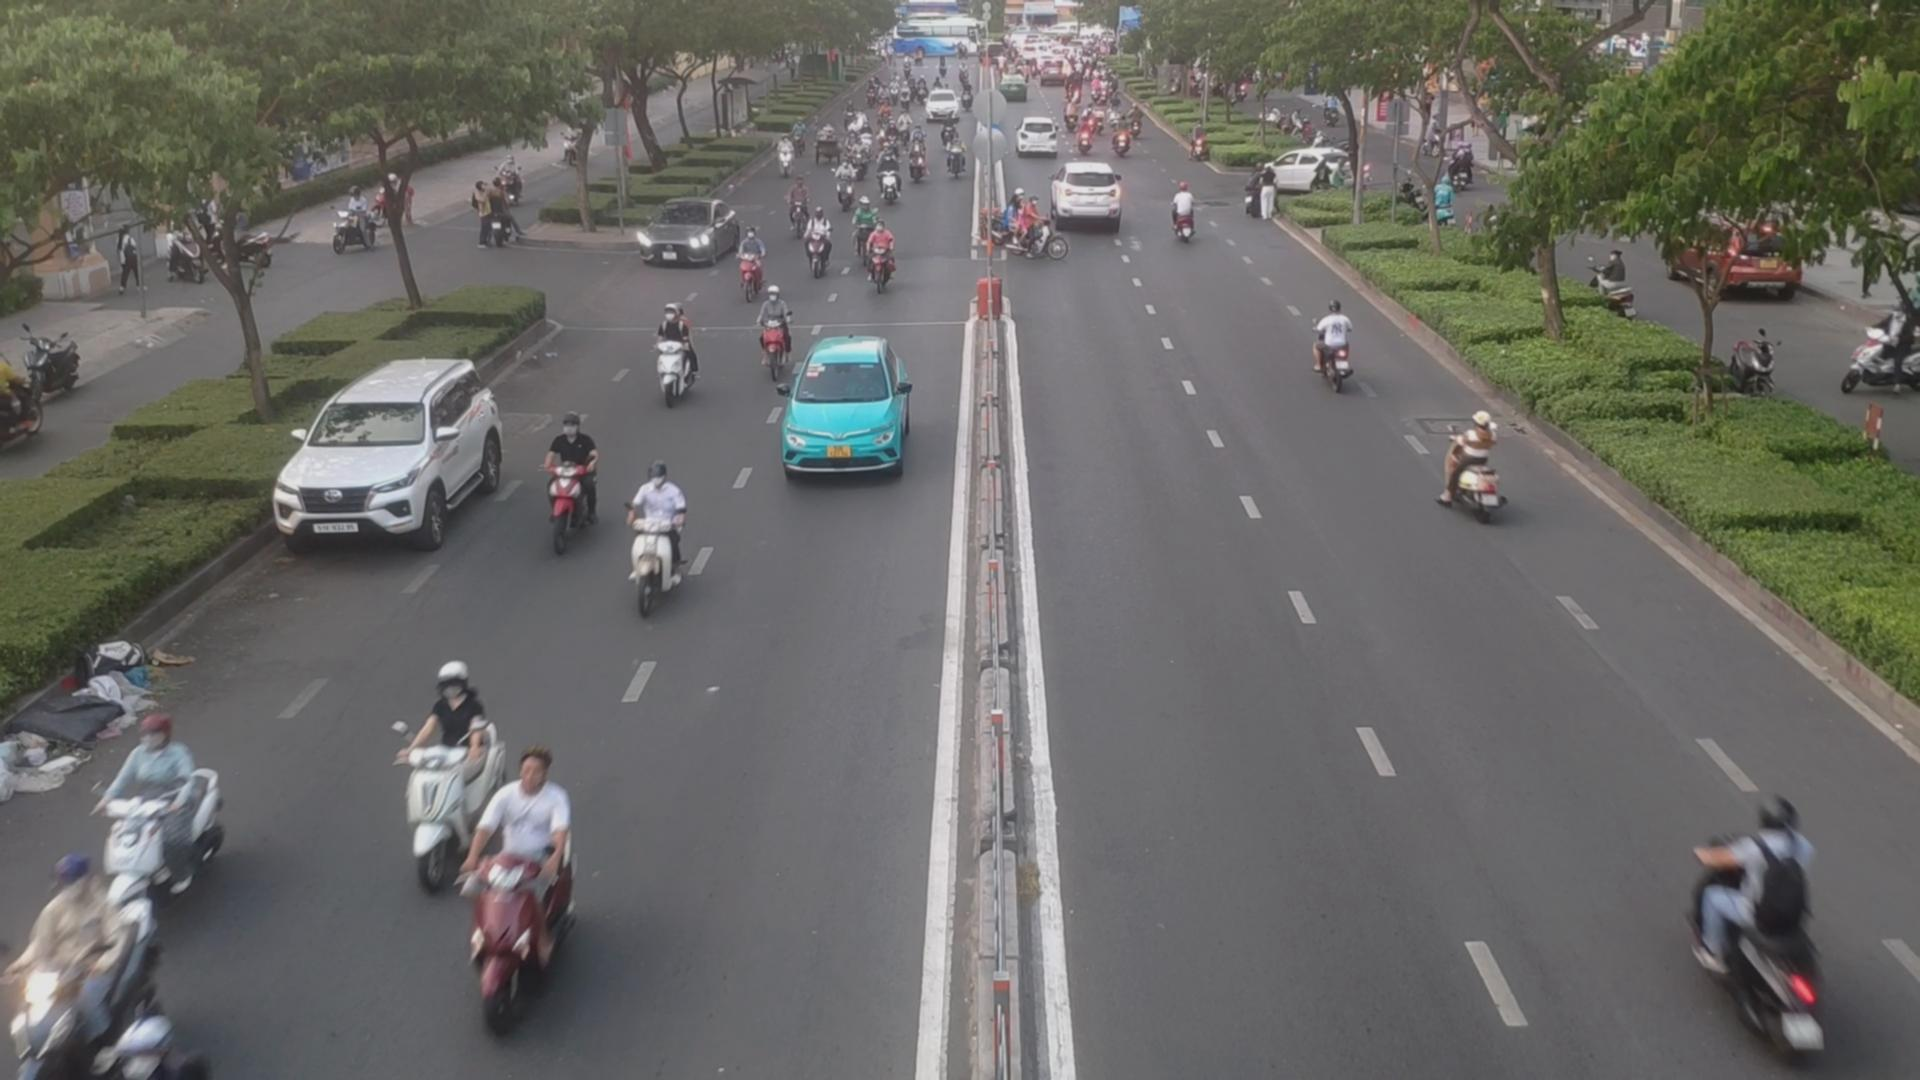car: (277, 360, 512, 553), (777, 336, 911, 476), (632, 203, 746, 270), (1058, 161, 1127, 224), (1273, 148, 1354, 190)
motorbike: (1677, 752, 1840, 1059), (18, 858, 164, 1076), (94, 709, 233, 890), (489, 742, 578, 992), (397, 661, 488, 876), (626, 462, 695, 609), (647, 299, 705, 425), (550, 390, 591, 558), (1453, 390, 1498, 530), (1316, 286, 1360, 392), (1002, 195, 1069, 262), (761, 285, 794, 373), (852, 200, 884, 280), (1164, 177, 1199, 248), (735, 236, 762, 301), (870, 228, 897, 294), (781, 178, 810, 233), (835, 157, 856, 210), (808, 218, 828, 266), (945, 135, 967, 175), (880, 152, 897, 196), (849, 137, 868, 175), (907, 138, 923, 179), (781, 133, 794, 175)
